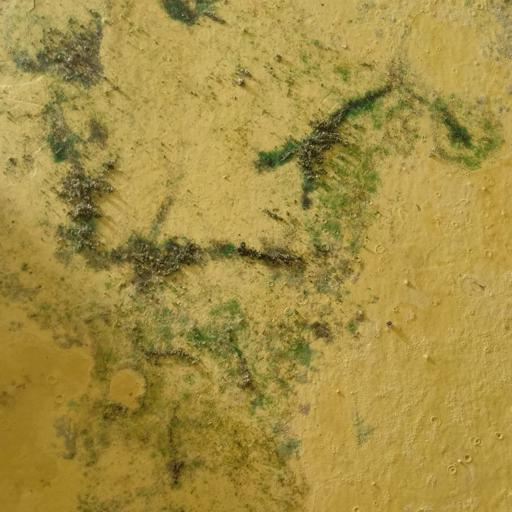algae: (46, 27, 495, 436)
